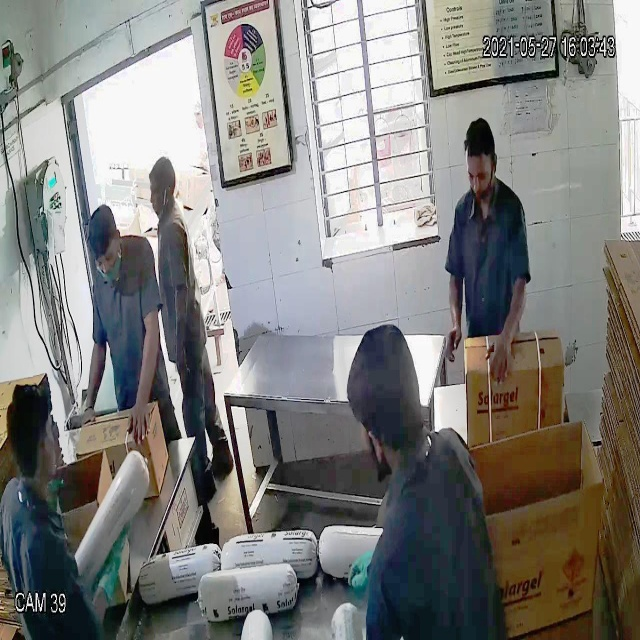Sin_gafas: (463, 155, 496, 193), (87, 242, 124, 275)
